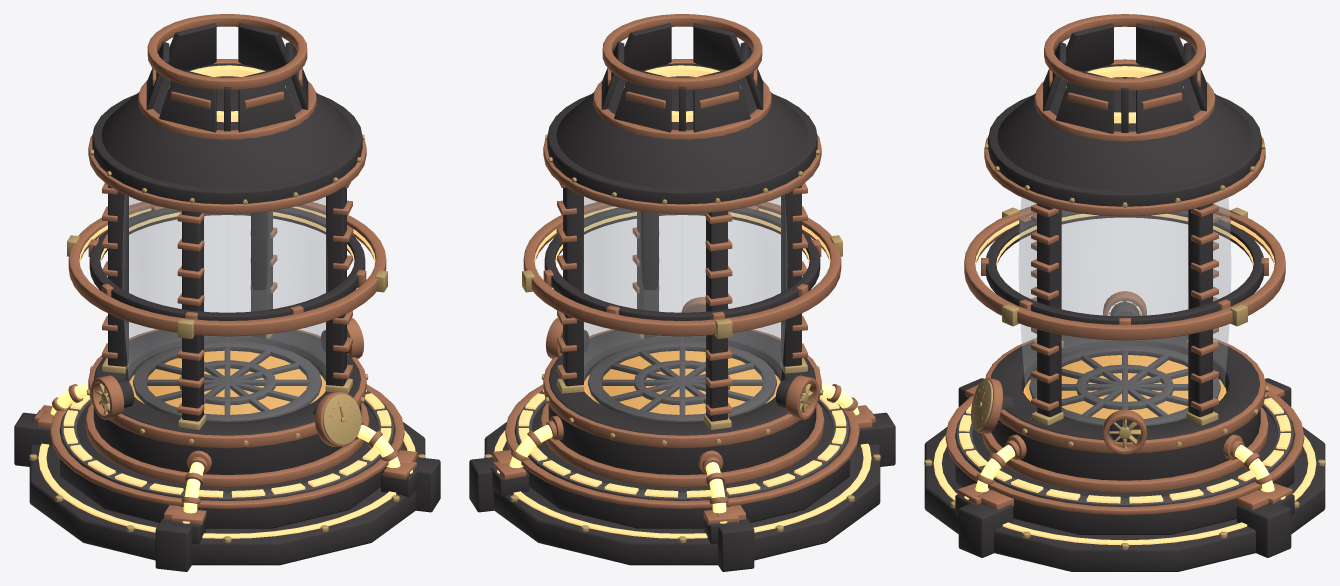
The model's file is crucible-reactor.glb.
3 views of the same model, side by side, from view 1: azimuth 30°, elevation 25°; view 2: azimuth 150°, elevation 25°; view 3: azimuth 270°, elevation 25° (orthographic).
Parts seen in each view (by area): view 1: QuartzShell, ThermalCrownHood, PlinthLower, LowerChamberCollar, PlinthDeck, HearthGrate, RingOuterBody, UpperChamberCollar, RingInnerBody, CrownTopGuard, PlinthDeckTrim, LowerFlangeBot (+27 smaller); view 2: QuartzShell, ThermalCrownHood, LowerChamberCollar, PlinthLower, PlinthDeck, HearthGrate, RingOuterBody, UpperChamberCollar, RingInnerBody, CrownTopGuard, PlinthDeckTrim, LowerFlangeBot (+25 smaller); view 3: QuartzShell, ThermalCrownHood, LowerChamberCollar, PlinthLower, PlinthDeck, RingOuterBody, HearthGrate, UpperChamberCollar, RingInnerBody, CrownTopGuard, PlinthDeckTrim, LowerFlangeBot (+24 smaller).
Boxes of the visible parts, bbox=[...] form: QuartzShell: bbox=[122, 195, 326, 421]; ThermalCrownHood: bbox=[101, 63, 353, 188]; PlinthLower: bbox=[29, 422, 425, 565]; LowerChamberCollar: bbox=[93, 330, 361, 474]; PlinthDeck: bbox=[60, 403, 394, 528]; HearthGrate: bbox=[133, 340, 321, 421]; RingOuterBody: bbox=[68, 202, 386, 336]; UpperChamberCollar: bbox=[92, 94, 362, 204]; RingInnerBody: bbox=[89, 207, 365, 320]; CrownTopGuard: bbox=[147, 14, 307, 90]; PlinthDeckTrim: bbox=[50, 384, 404, 508]; LowerFlangeBot: bbox=[85, 402, 369, 487]; QuartzShell: bbox=[583, 195, 787, 421]; ThermalCrownHood: bbox=[556, 63, 808, 188]; LowerChamberCollar: bbox=[548, 330, 816, 474]; PlinthLower: bbox=[484, 422, 880, 565]; PlinthDeck: bbox=[515, 403, 849, 528]; HearthGrate: bbox=[588, 340, 776, 421]; RingOuterBody: bbox=[523, 202, 841, 336]; UpperChamberCollar: bbox=[547, 94, 817, 204]; RingInnerBody: bbox=[544, 207, 820, 320]; CrownTopGuard: bbox=[602, 14, 762, 90]; PlinthDeckTrim: bbox=[505, 384, 859, 508]; LowerFlangeBot: bbox=[540, 402, 824, 487]; QuartzShell: bbox=[1019, 197, 1230, 425]; ThermalCrownHood: bbox=[997, 64, 1252, 190]; LowerChamberCollar: bbox=[991, 335, 1260, 480]; PlinthLower: bbox=[924, 427, 1325, 571]; PlinthDeck: bbox=[955, 408, 1294, 534]; RingOuterBody: bbox=[964, 206, 1285, 340]; HearthGrate: bbox=[1029, 345, 1220, 425]; UpperChamberCollar: bbox=[988, 95, 1261, 206]; RingInnerBody: bbox=[986, 210, 1263, 324]; CrownTopGuard: bbox=[1044, 14, 1205, 90]; PlinthDeckTrim: bbox=[945, 390, 1304, 515]; LowerFlangeBot: bbox=[982, 407, 1268, 493].
Size of the model in its own units: 3.02 by 3.66 by 3.02.
